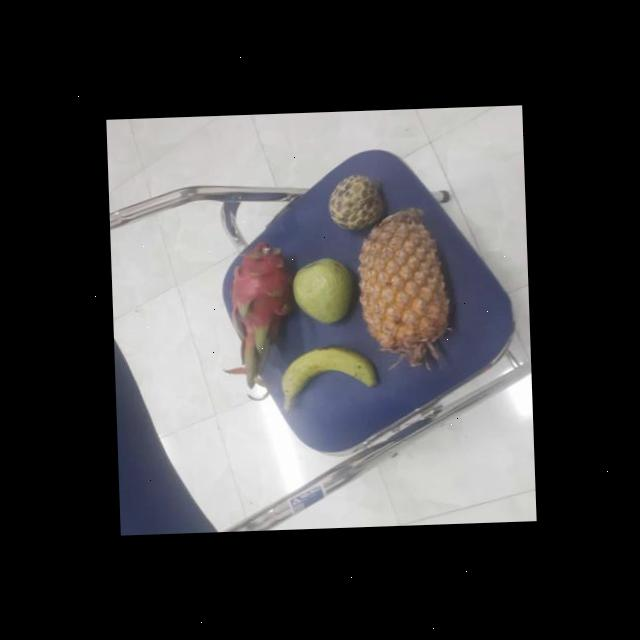Sakya fruit: (327, 173, 384, 235)
banana: (278, 344, 373, 410)
guava: (288, 254, 354, 328)
pineapple: (356, 210, 448, 354)
pitaya: (224, 240, 298, 366)
